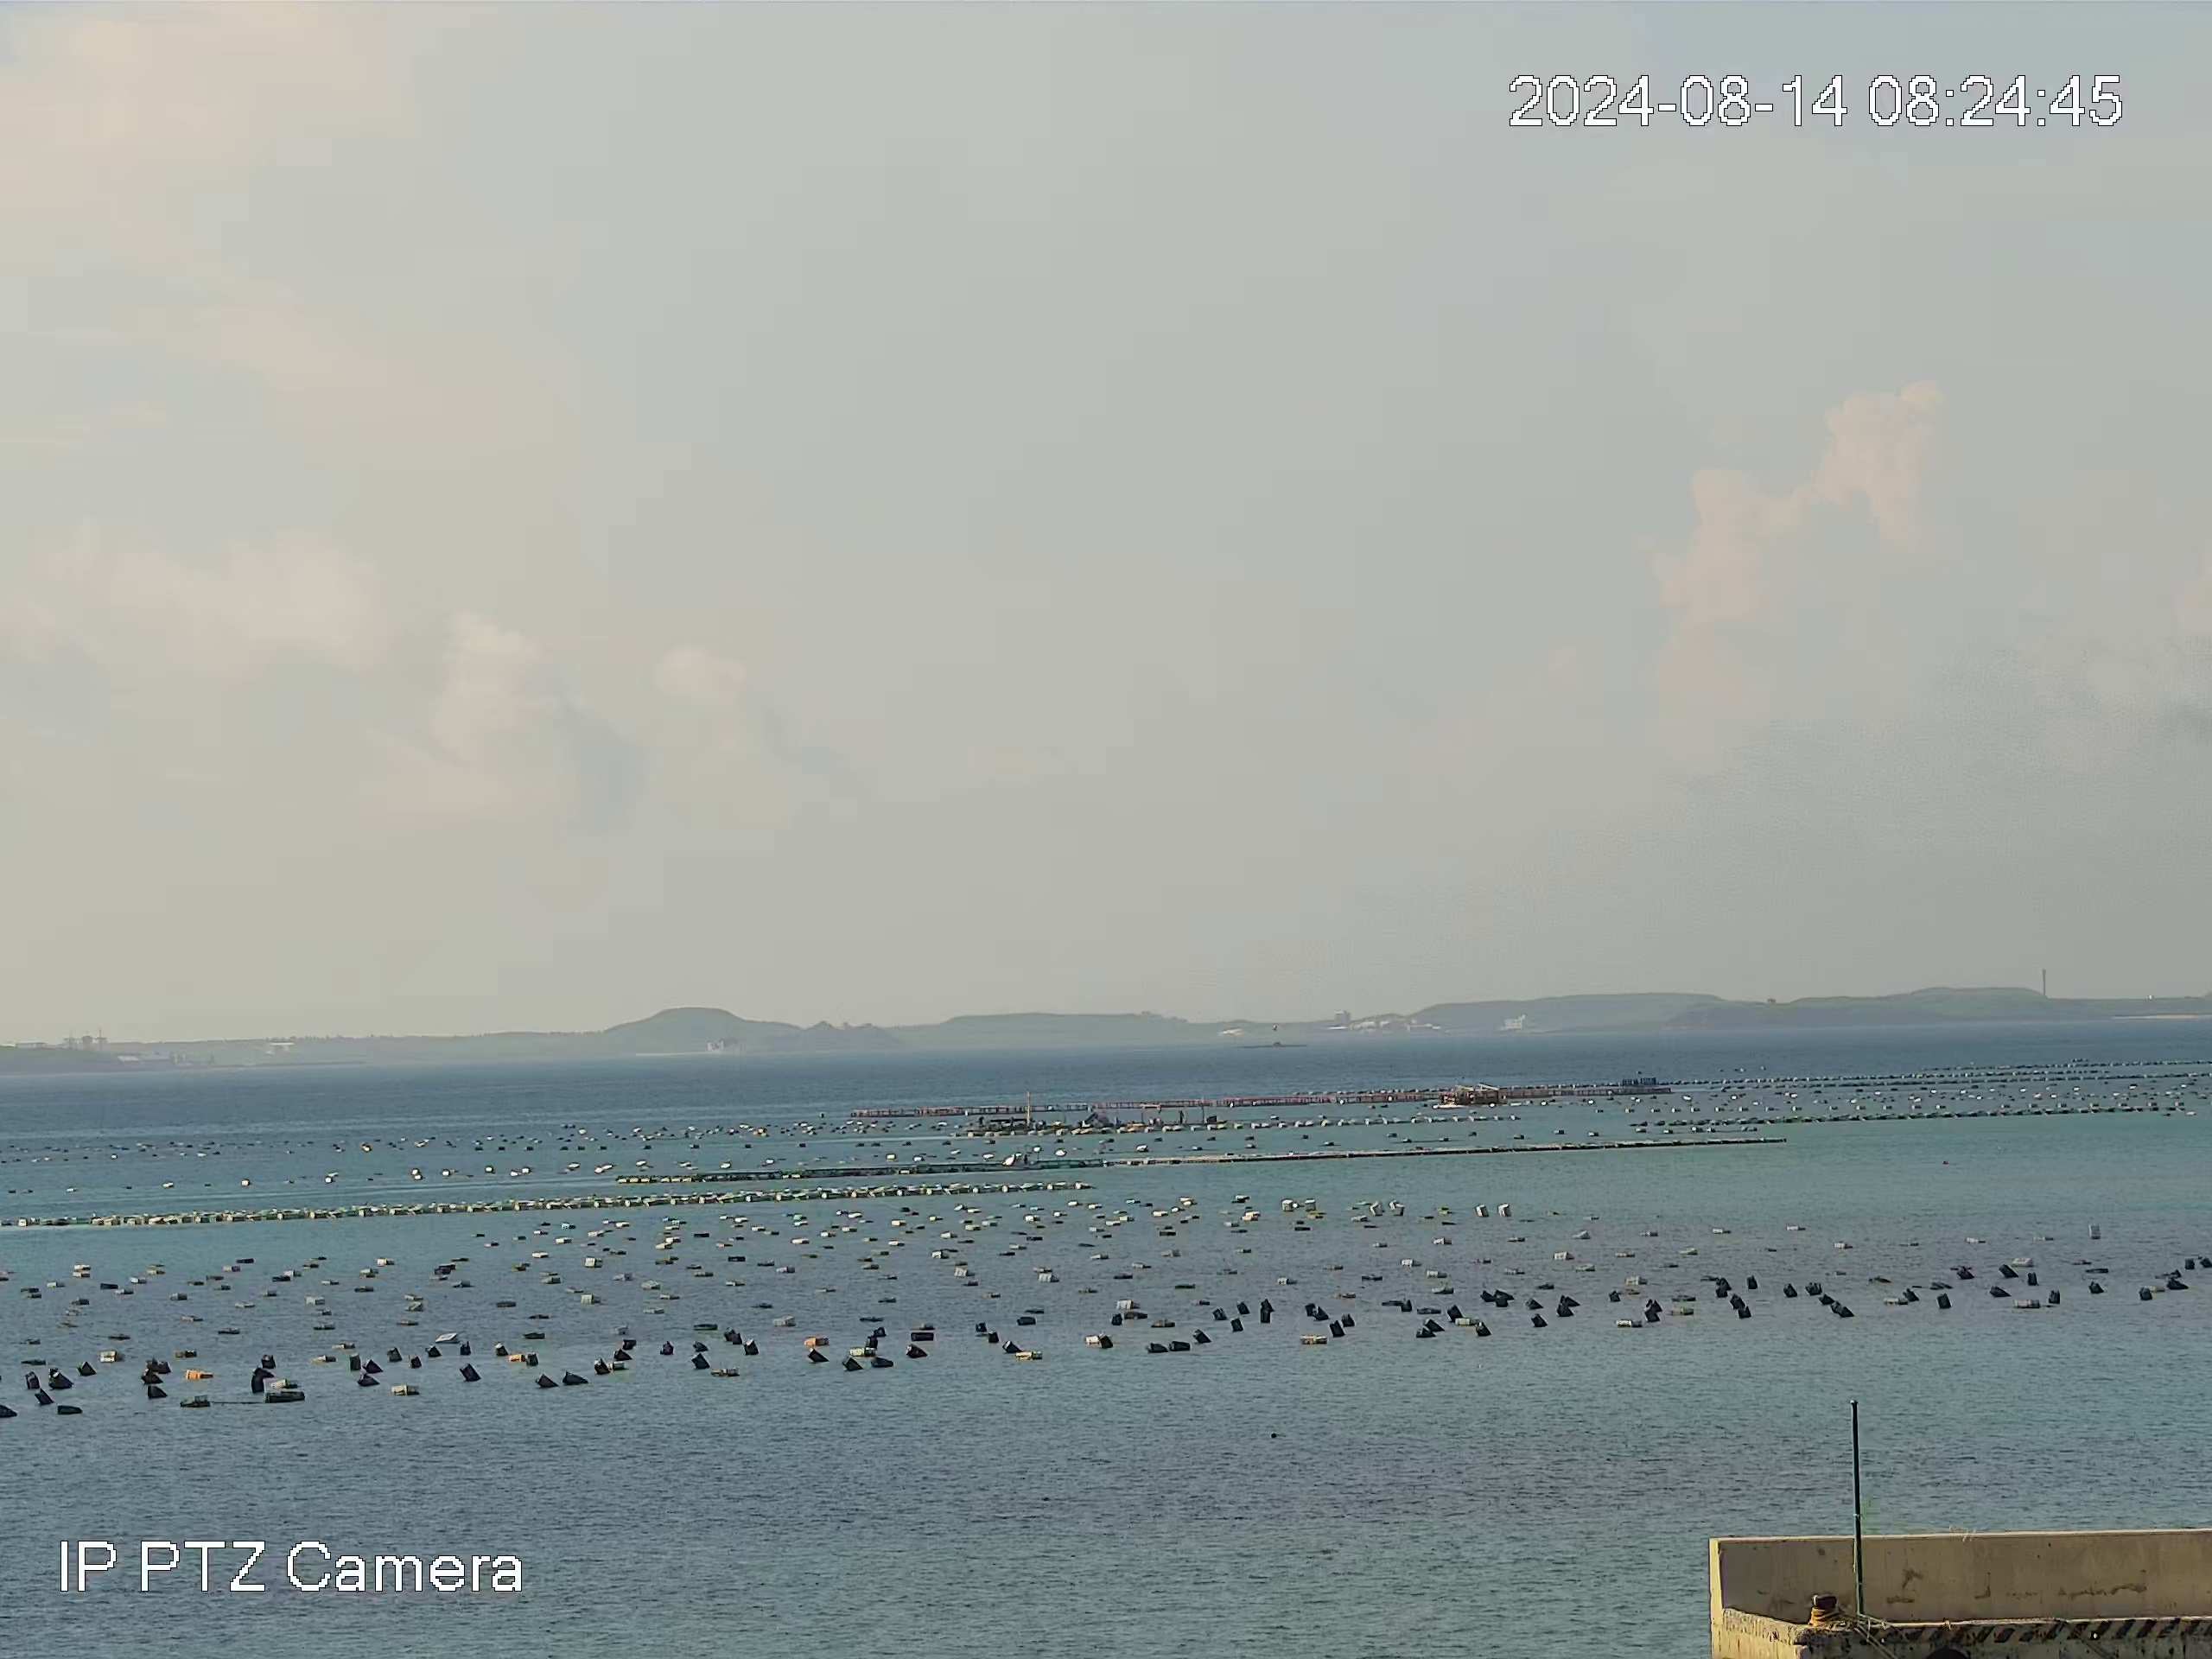boat: (1437, 1082, 1505, 1105)
